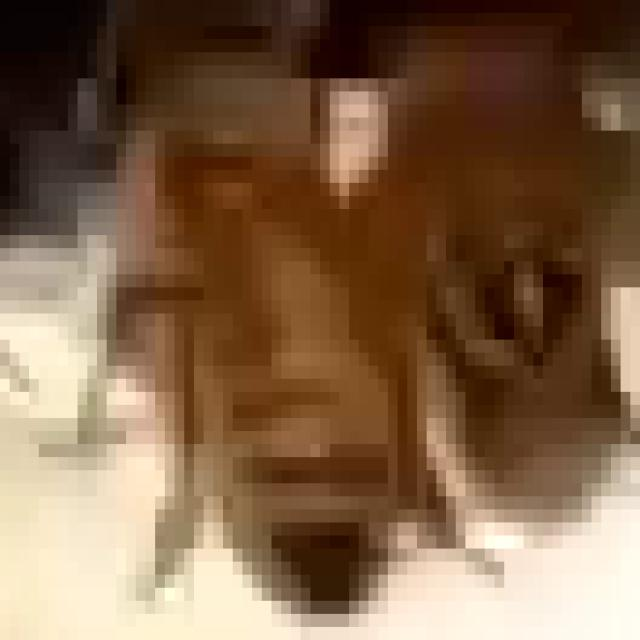honeybee: (130, 68, 418, 614), (358, 30, 624, 507)
